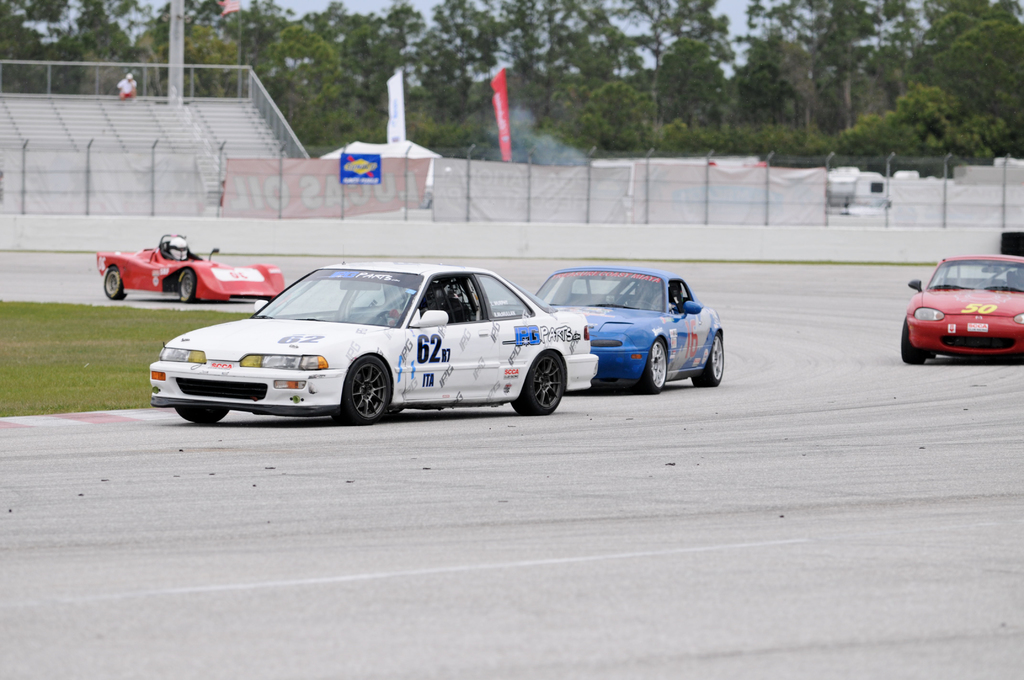Car: (147, 242, 601, 427), (532, 262, 725, 393), (901, 254, 1023, 365), (97, 235, 285, 301)
